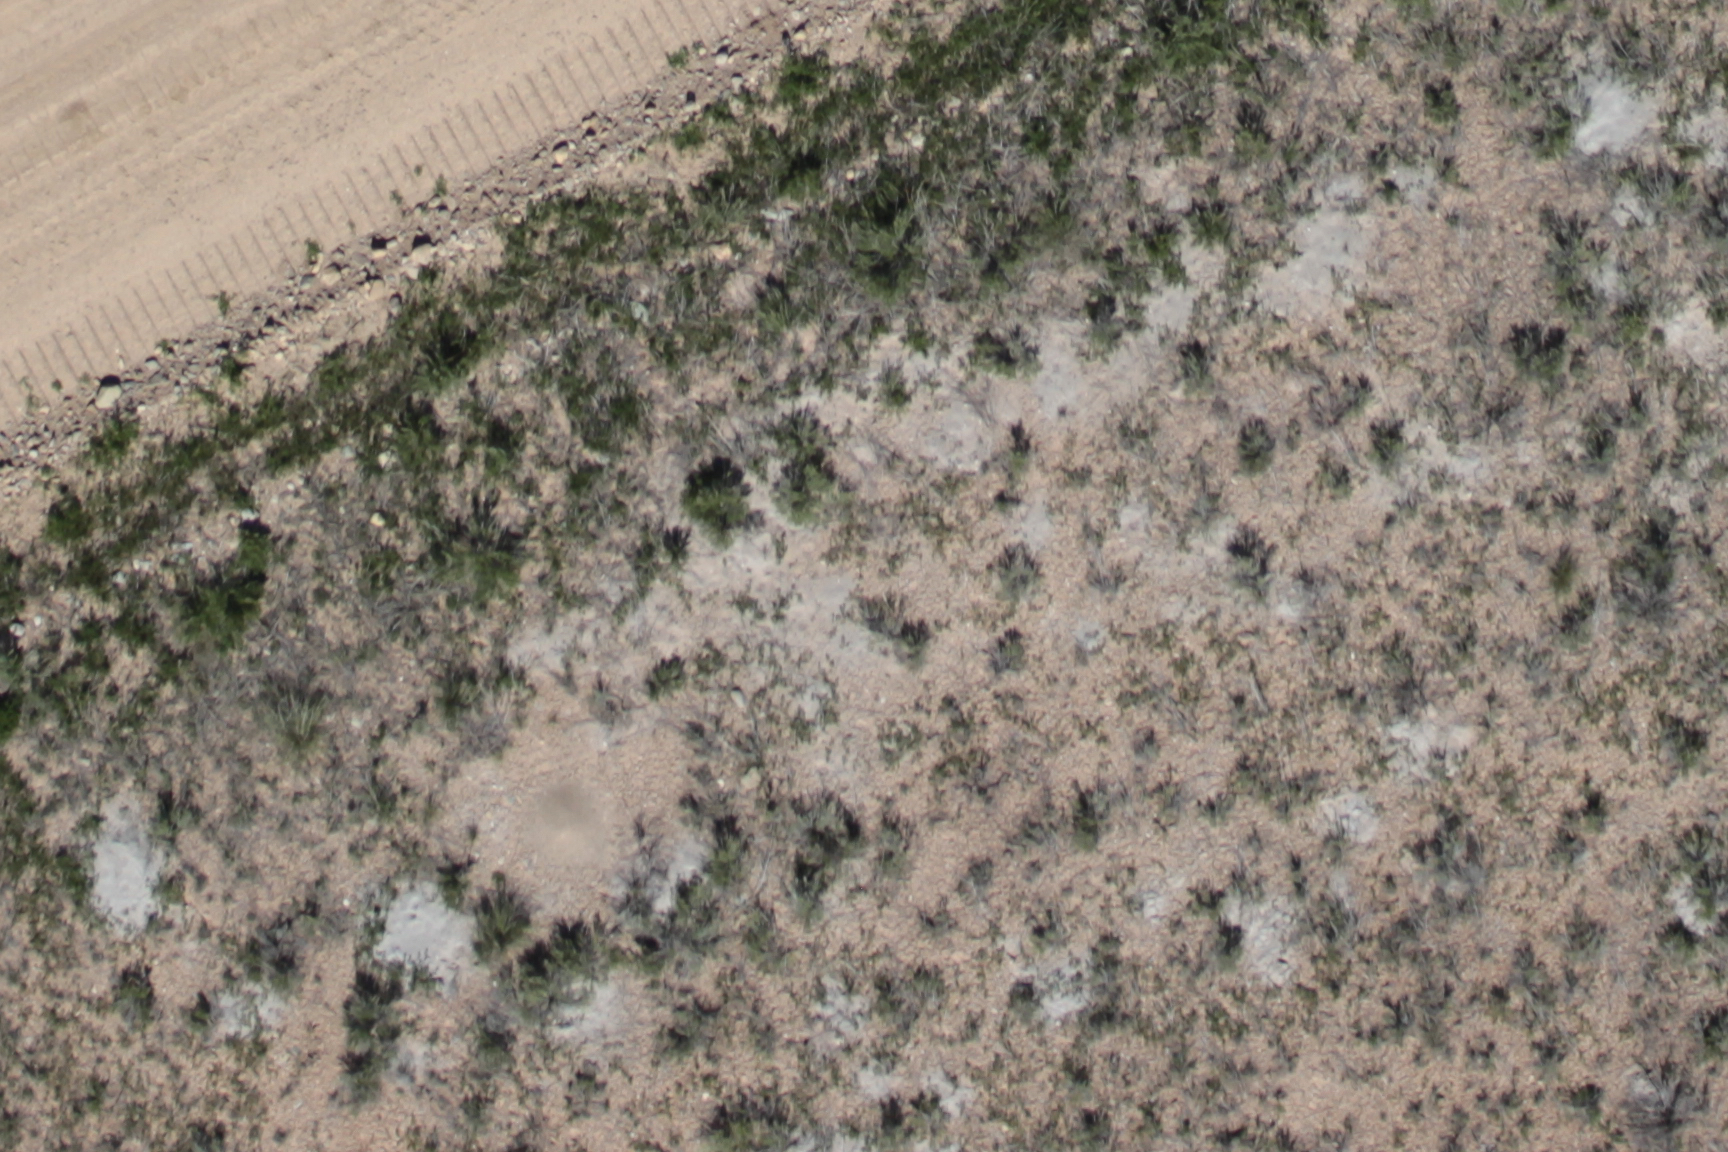burrow: (510, 777, 612, 873)
